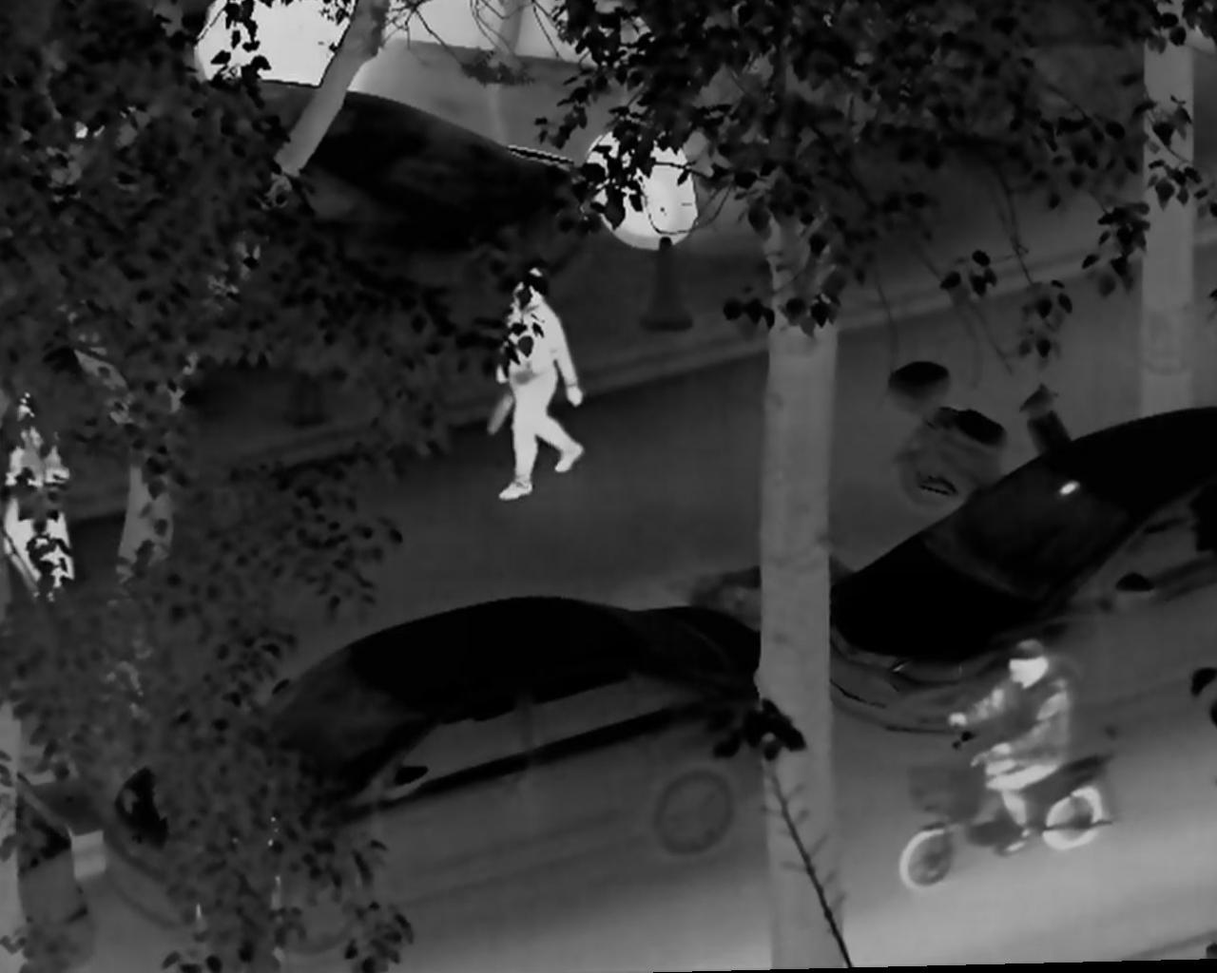person: (950, 633, 1070, 858), (489, 263, 587, 507), (4, 390, 80, 633)
